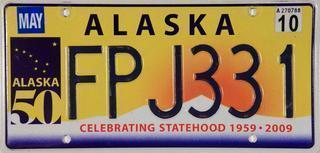placa de veiculo: (6, 1, 317, 152)
